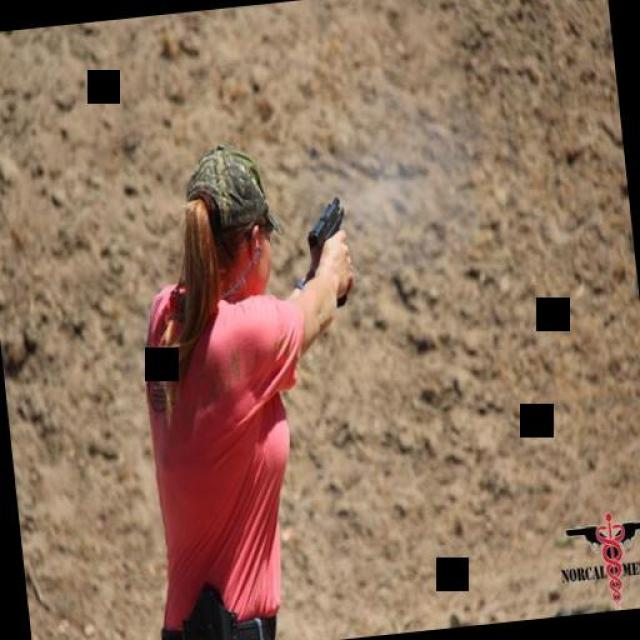gun: (300, 190, 355, 312)
